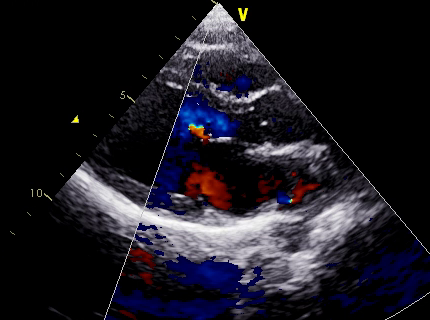MR: (162, 129, 230, 212)
